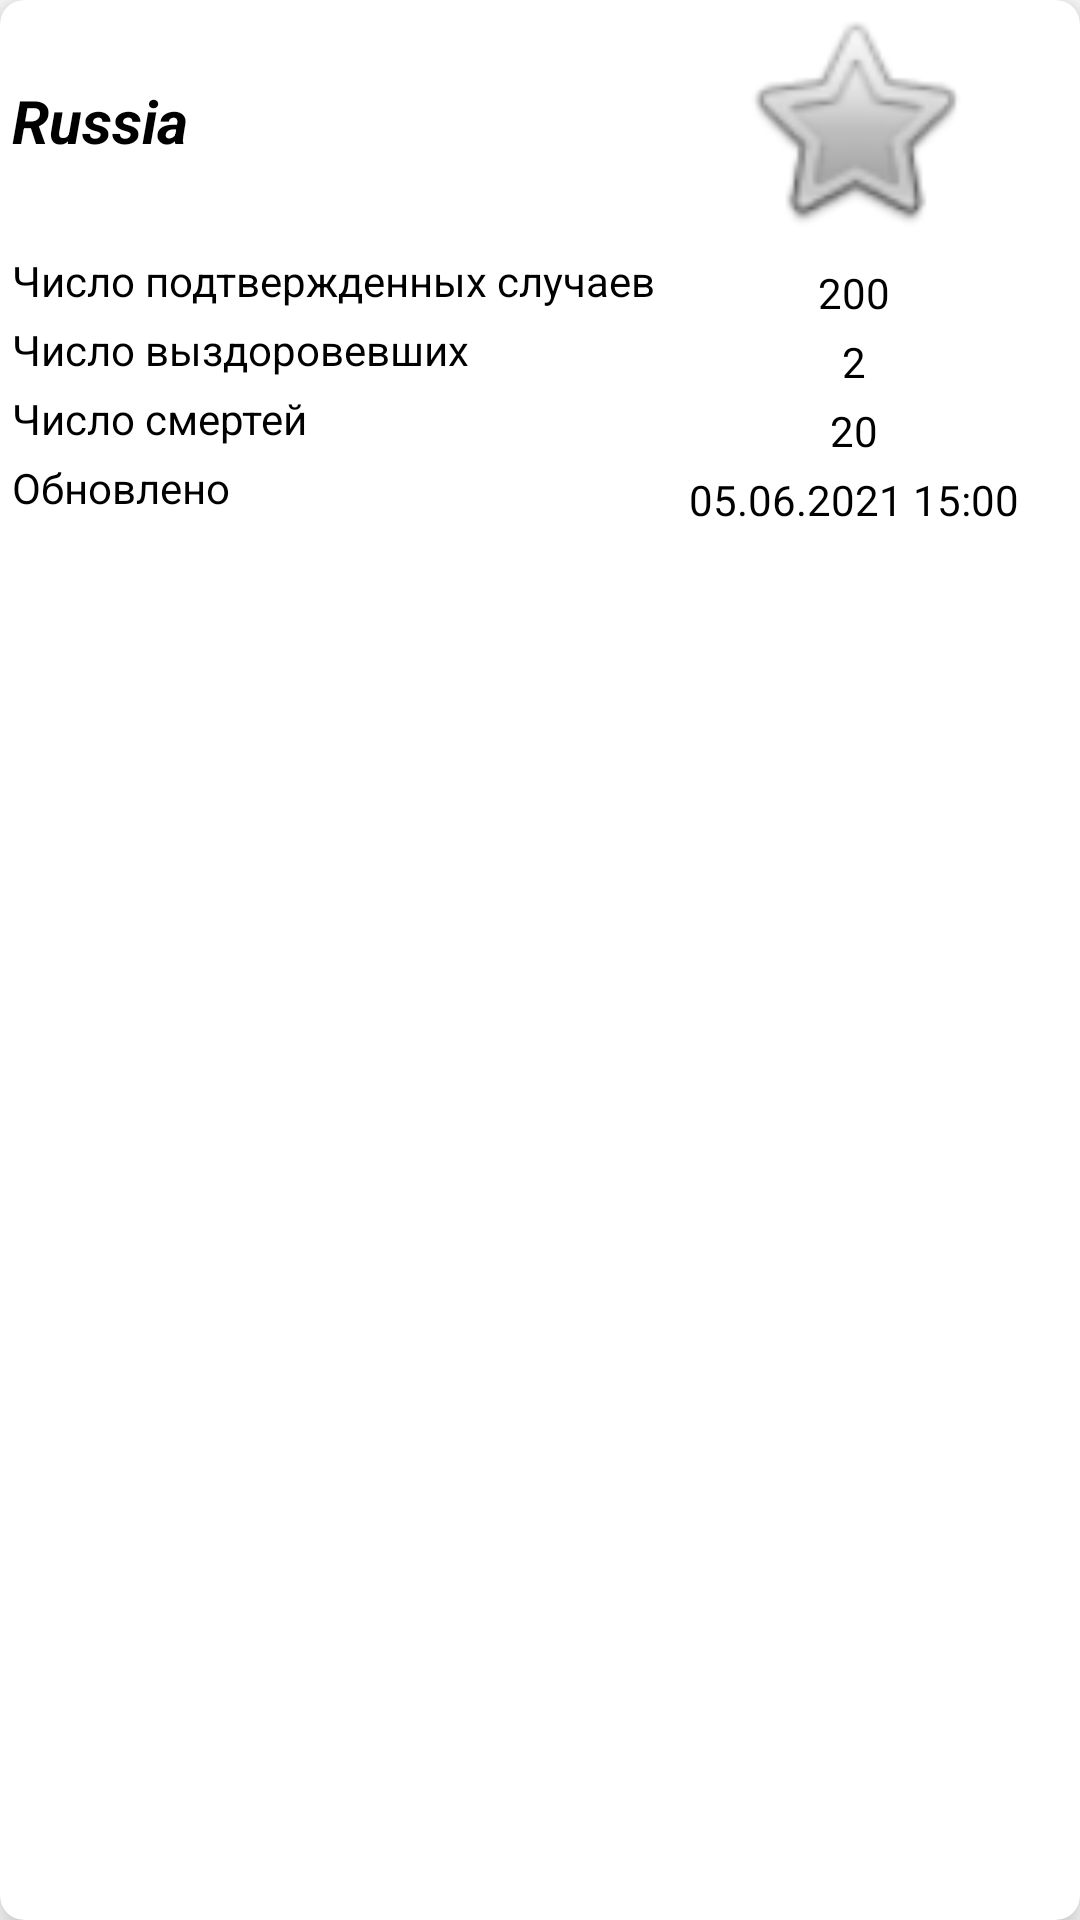

Where icons sit on this 1080 × 1920 app screen, as [x1,y1,x2,y2]:
star off: [756,24,956,220]
